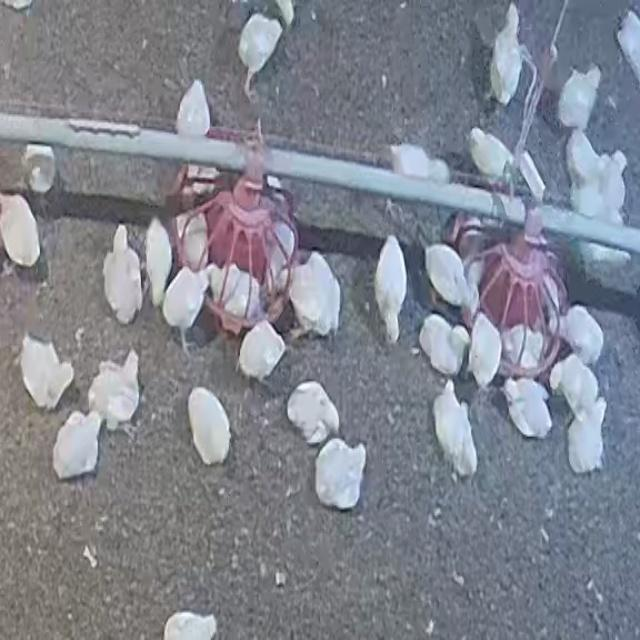chicken: (288, 251, 342, 340), (101, 221, 145, 330), (160, 265, 210, 358), (237, 12, 286, 106), (370, 231, 409, 347), (86, 350, 141, 431), (315, 435, 370, 515), (19, 334, 74, 412), (432, 382, 476, 478), (186, 381, 232, 468), (284, 379, 342, 448), (52, 409, 104, 481), (210, 264, 266, 329), (424, 242, 476, 311), (570, 398, 613, 478), (550, 302, 606, 363), (549, 354, 602, 418), (500, 375, 552, 439), (0, 190, 42, 269), (237, 320, 286, 384), (418, 314, 467, 377), (556, 65, 602, 129), (145, 216, 173, 304), (503, 322, 548, 372)
